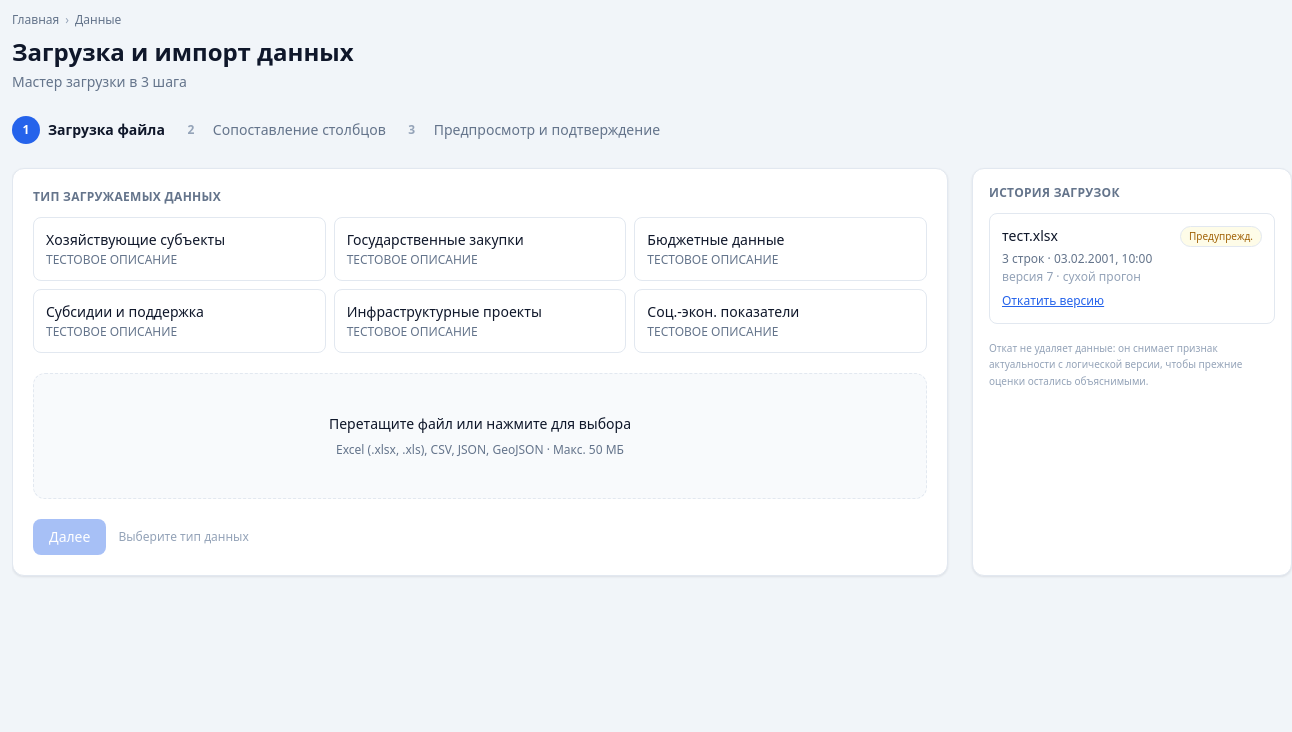
Test: история загрузок › откат сообщает, что данные не удалены
Click the button "Откатить версию". click: coordinates (1053, 301)
box: 1002,293 -> 1104,309
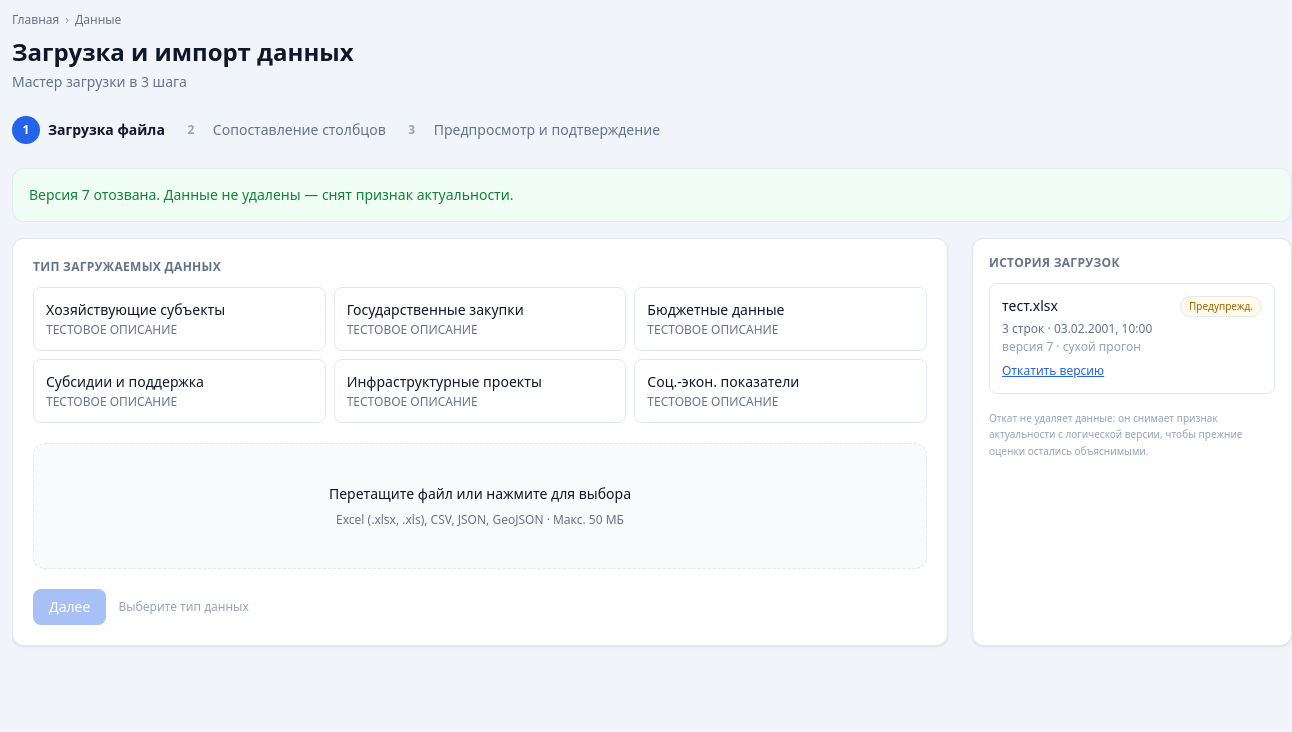
Expected: the text "Версия 7 отозвана. Данные не удалены — снят признак актуальности." is shown, 12,168 -> 1291,222
